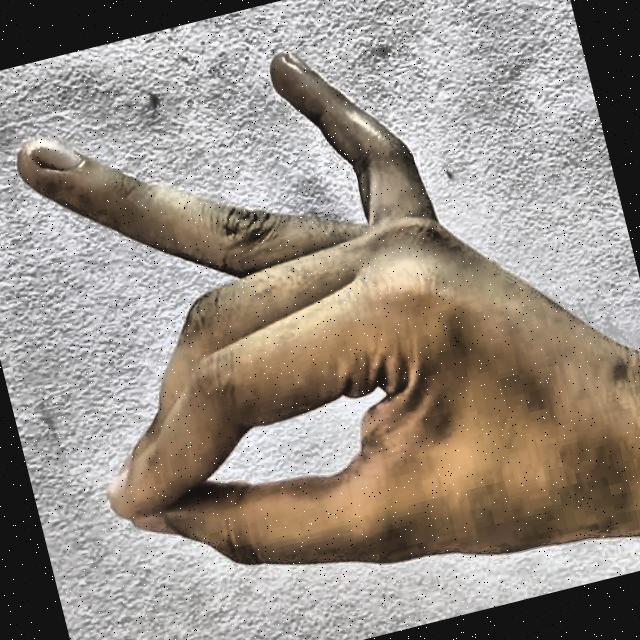Na: (0, 0, 628, 640)
